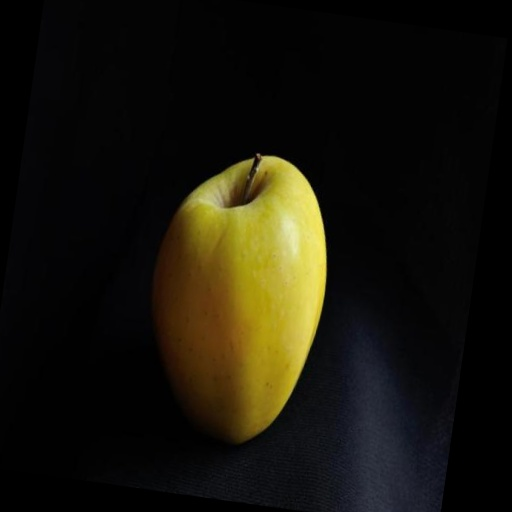fruit: (151, 157, 325, 443)
